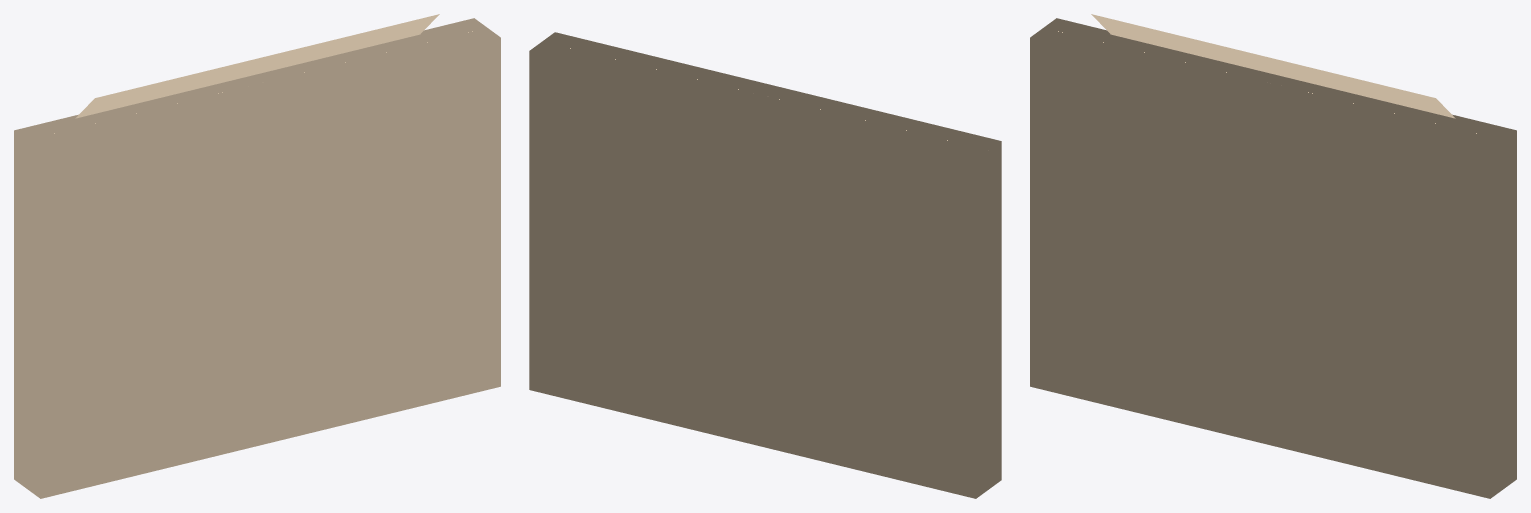
File: env_wall_adobe_4m.glb
3 views of the same model, side by side, from view 1: azimuth 30°, elevation 25°; view 2: azimuth 150°, elevation 25°; view 3: azimuth 330°, elevation 25° (orthographic). The views are drawn at different scales.
Visible parts, largest first — view 1: env_wall_adobe_4m; view 2: env_wall_adobe_4m; view 3: env_wall_adobe_4m.
Boxes of the visible parts, x1,y1,x2,y2 form: env_wall_adobe_4m: (14,14,500,498); env_wall_adobe_4m: (529,32,1001,498); env_wall_adobe_4m: (1030,14,1516,498).
Bounding box in the file's own units: 4 × 3.19 × 0.4.
